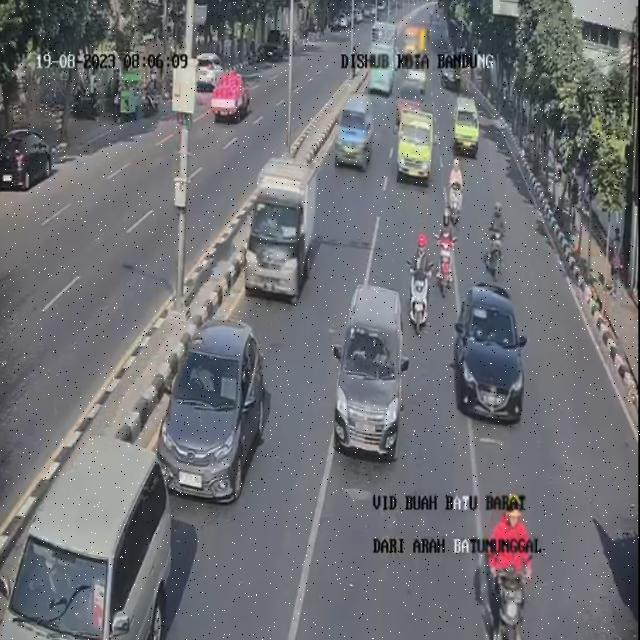cars: (0, 436, 176, 640), (158, 325, 264, 506), (335, 284, 408, 458), (247, 154, 320, 304), (454, 282, 524, 424), (335, 92, 376, 172), (452, 93, 480, 156), (396, 71, 425, 122), (368, 41, 392, 94)
motorcycle: (473, 490, 536, 639), (406, 228, 430, 330), (486, 197, 510, 282), (438, 210, 457, 300), (447, 154, 468, 231)
truck: (396, 102, 440, 187), (403, 16, 427, 69)
